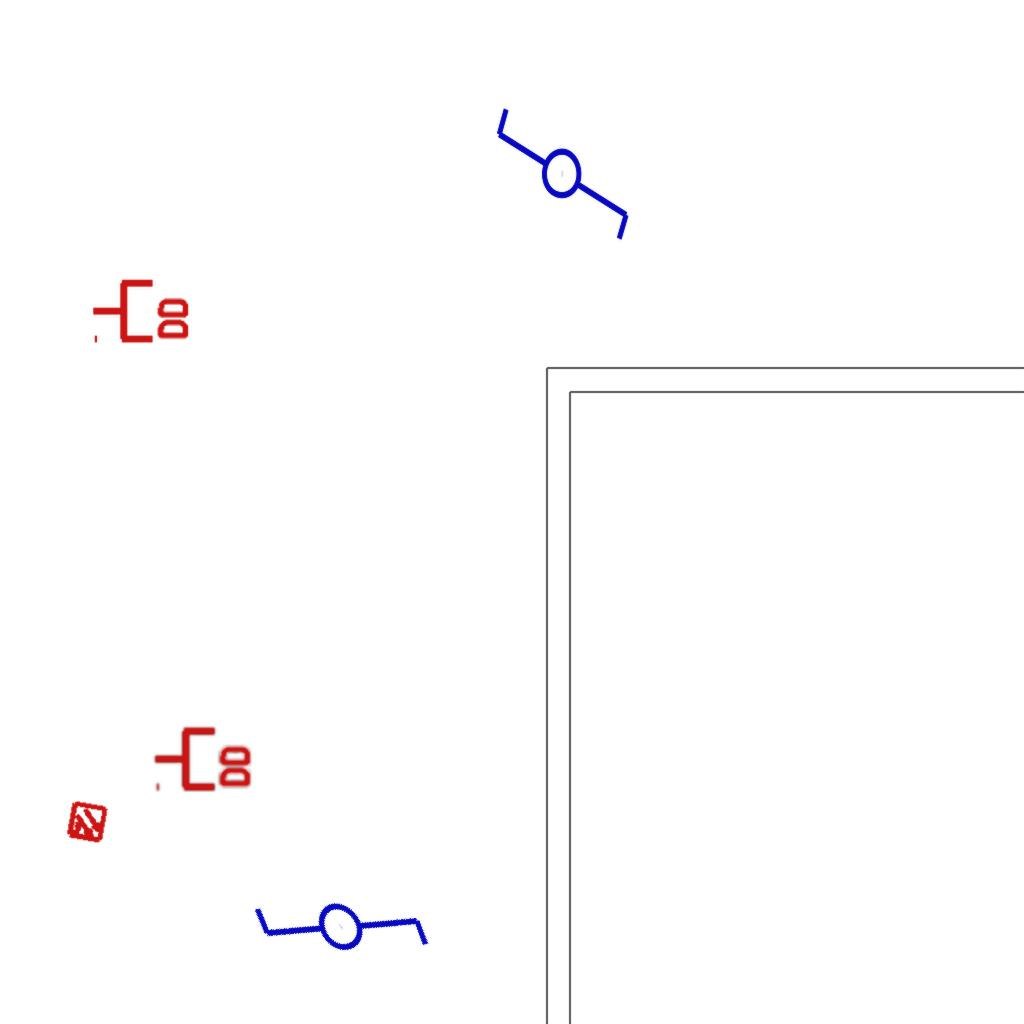Datenanschluss_zweifach: (152, 723, 255, 792), (90, 275, 193, 344)
OT_Multisensormelder_(Kombination_RMO_WMD): (54, 790, 120, 856)
Wechselschalter: (232, 812, 443, 1024), (492, 87, 636, 244)
